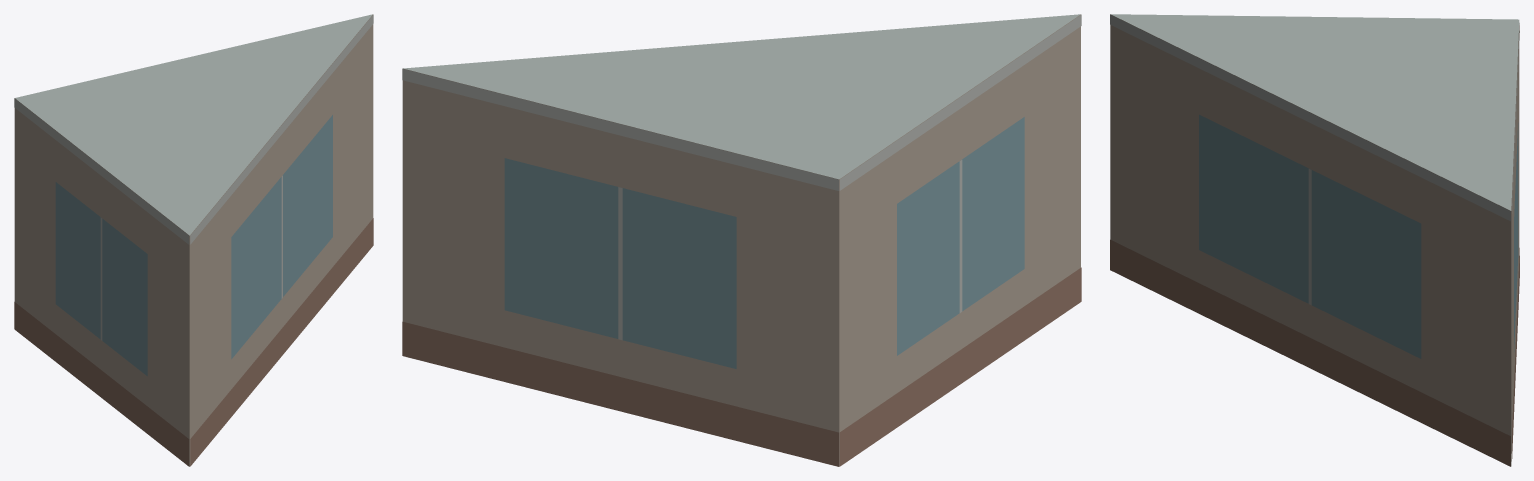
Rendered from survey-upis-32937600.glb.
The picture shows the model from 3 angles, left to right: view 1: azimuth 30°, elevation 25°; view 2: azimuth 150°, elevation 25°; view 3: azimuth 270°, elevation 25°; orthographic projection. The views are drawn at different scales.
Visible parts, largest first — view 1: survey-upis-32937600.tmp; view 2: survey-upis-32937600.tmp; view 3: survey-upis-32937600.tmp.
Boxes of the visible parts, x1,y1,x2,y2 form: survey-upis-32937600.tmp: (14,14,373,466); survey-upis-32937600.tmp: (402,14,1081,466); survey-upis-32937600.tmp: (1110,14,1519,466).
Bounding box in the file's own units: 5.05 × 3.05 × 4.43.
